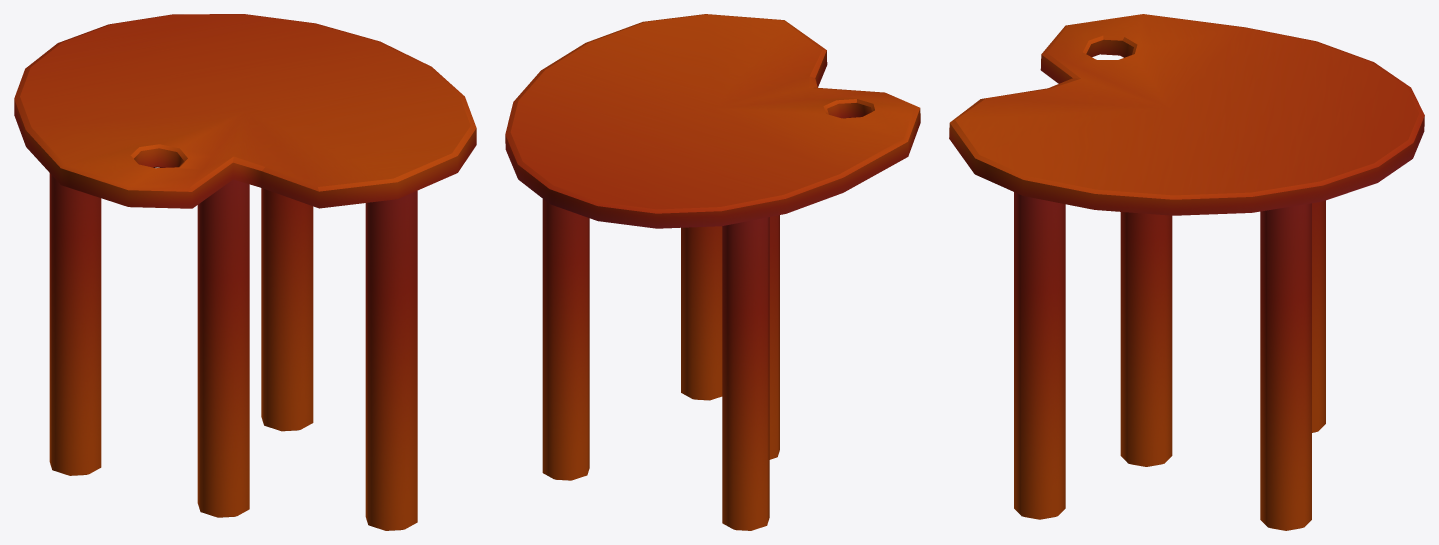
File: table.fbx
3 views of the same model, side by side, from view 1: azimuth 30°, elevation 25°; view 2: azimuth 150°, elevation 25°; view 3: azimuth 270°, elevation 25° (orthographic). The views are drawn at different scales.
Parts seen in each view (by area): view 1: table; view 2: table; view 3: table.
Boxes of the visible parts, box(x1,y1,x2,y2) form: table: box(14, 14, 476, 530); table: box(505, 14, 920, 530); table: box(949, 14, 1424, 530).
Bounding box in the file's own units: 11.32 × 10.83 × 12.55.
